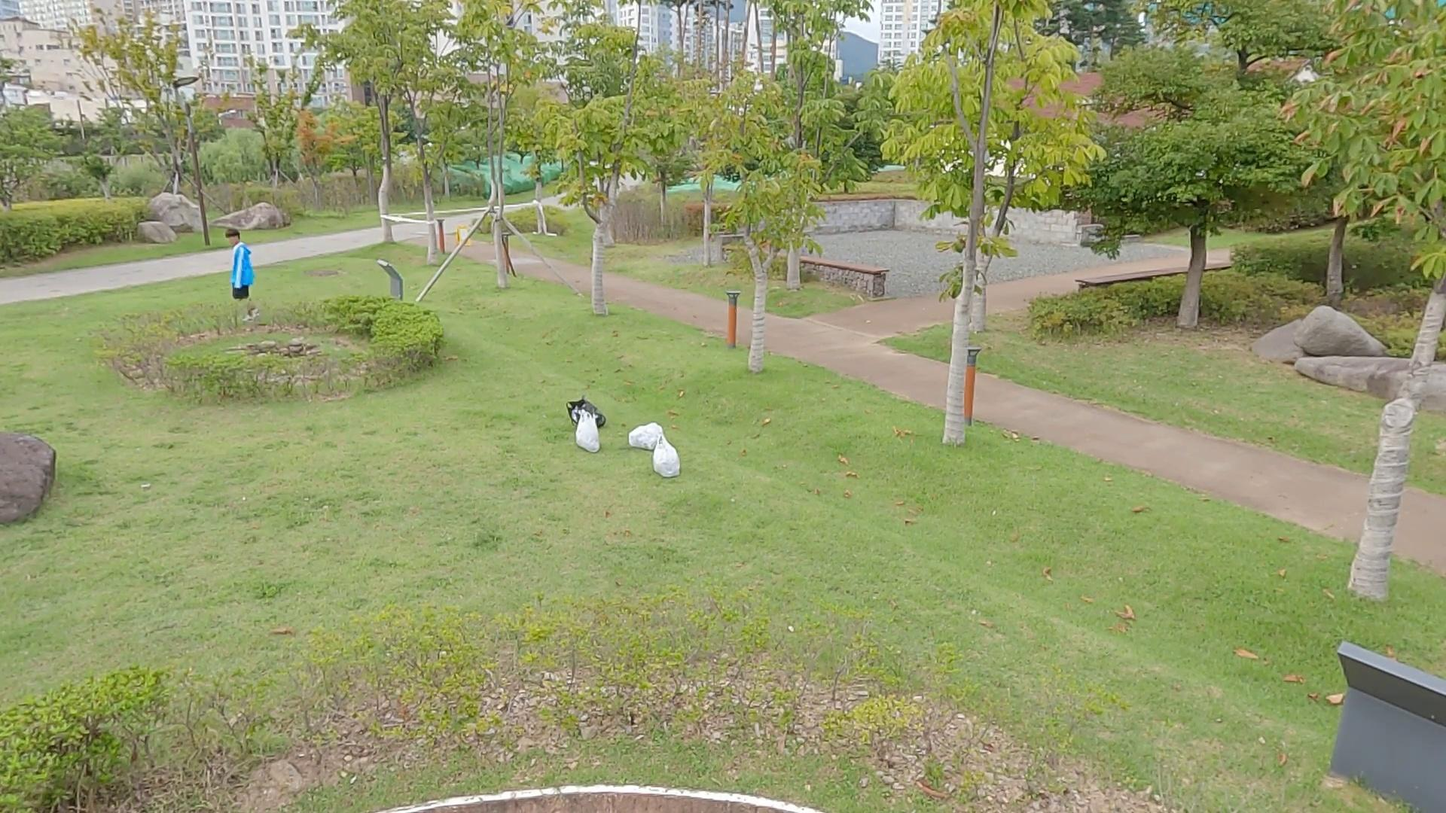person: (220, 228, 266, 325)
trash: (564, 391, 607, 429), (573, 407, 605, 456), (650, 432, 680, 478), (629, 421, 663, 454)
